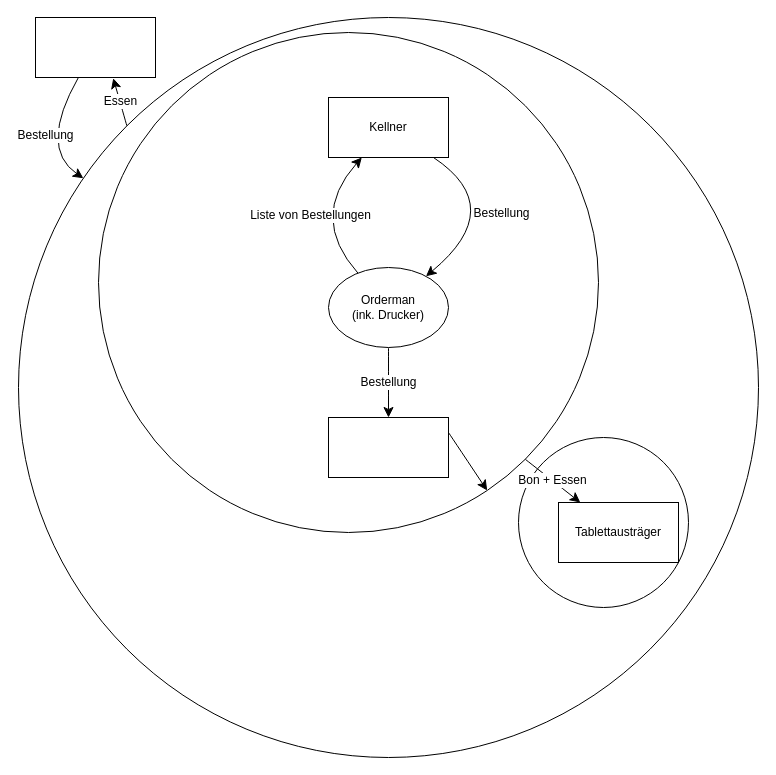
Image size: 776x775. Some labels were removed from this diagram. Here are the shapes that lost their labels. From the top down, the centre of each, then its label:
the point at 95,47: Kunde
the point at 388,447: Koch
